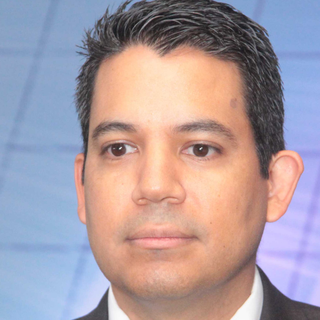eye: (178, 139, 227, 163), (97, 139, 142, 163)
